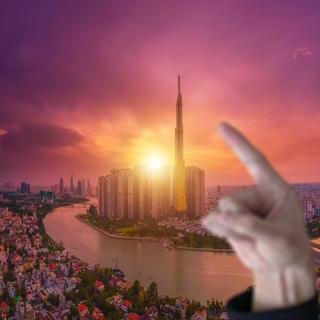IRRITATED: (197, 118, 313, 270)
